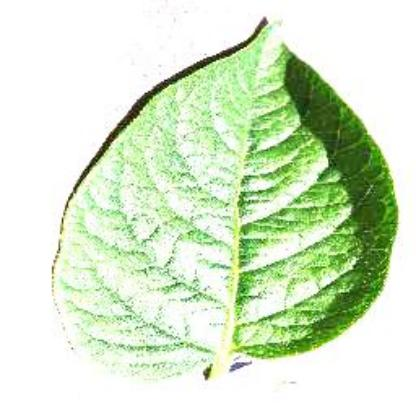Healthy-plant: (52, 9, 404, 399)
